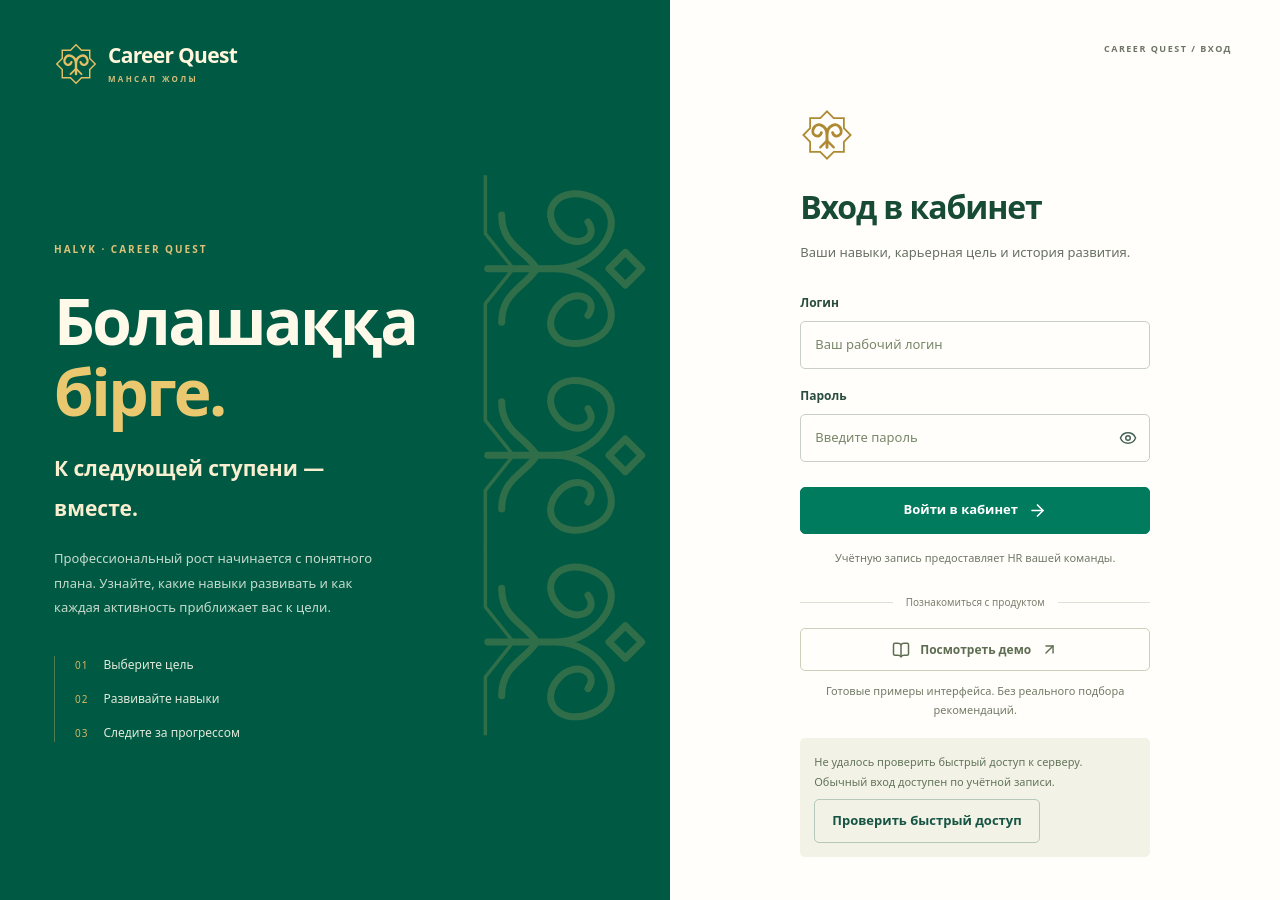
Test: public server entry › can retry discovery after a network failure while preserving ordinary private entry
expect the button "Войти в кабинет" is shown: met, box top-left (800, 487), bottom-right (1150, 534)
Click the button "Проверить быстрый доступ".
click(927, 821)  # box top-left (814, 799), bottom-right (1040, 843)
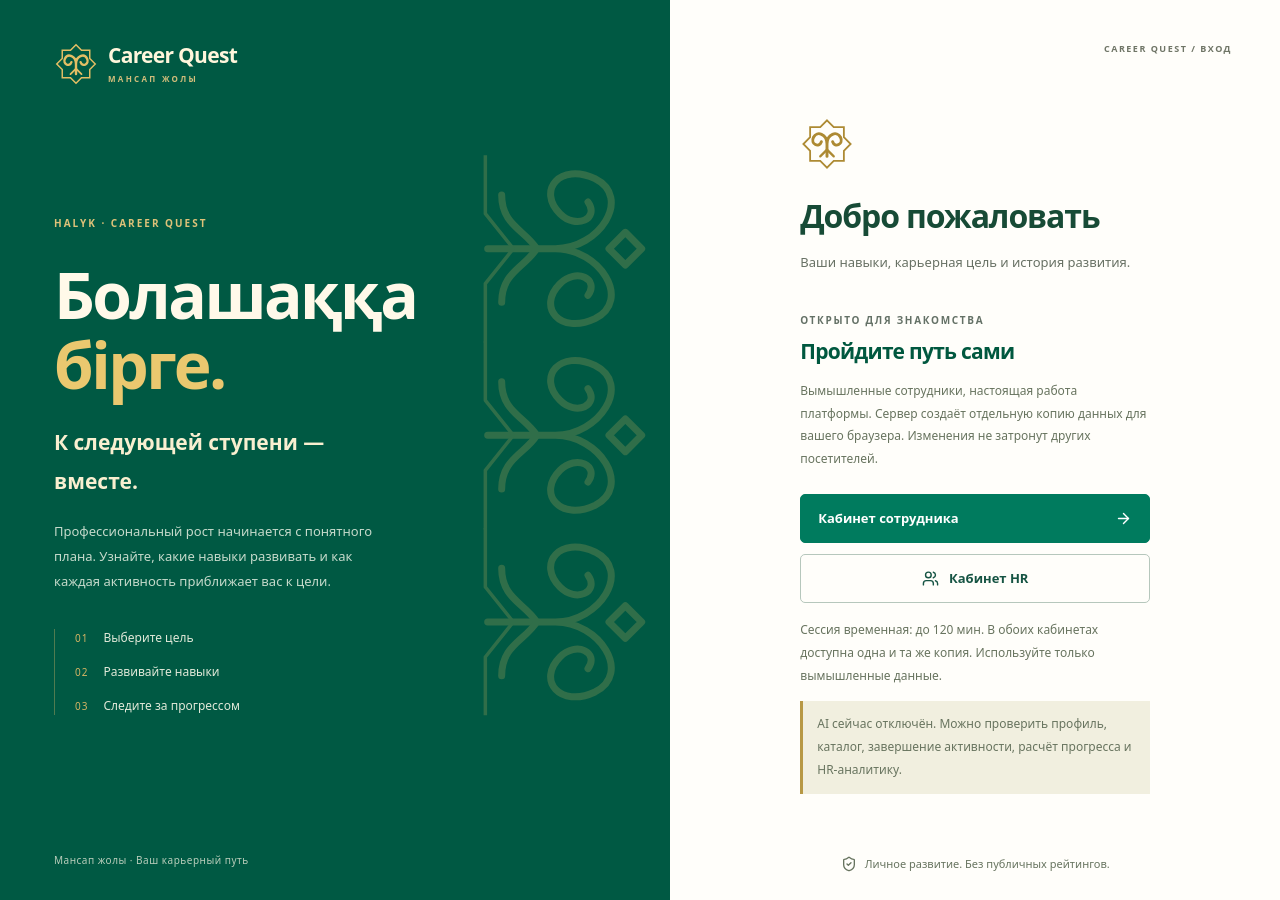
expect the button "Кабинет сотрудника" is shown: met, box top-left (800, 494), bottom-right (1150, 543)
